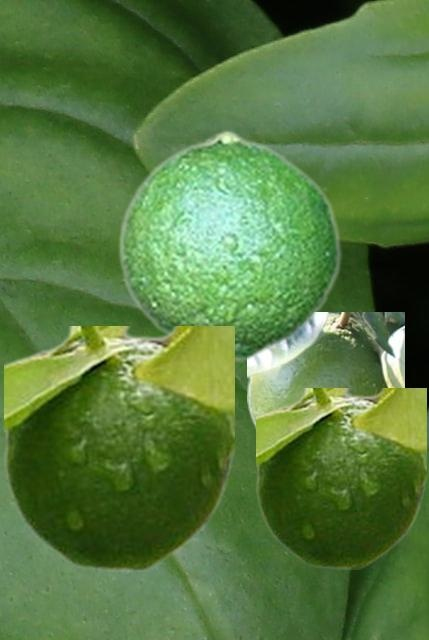dalandan: (4, 326, 233, 570), (116, 129, 341, 361), (256, 388, 425, 568), (247, 312, 403, 433)
